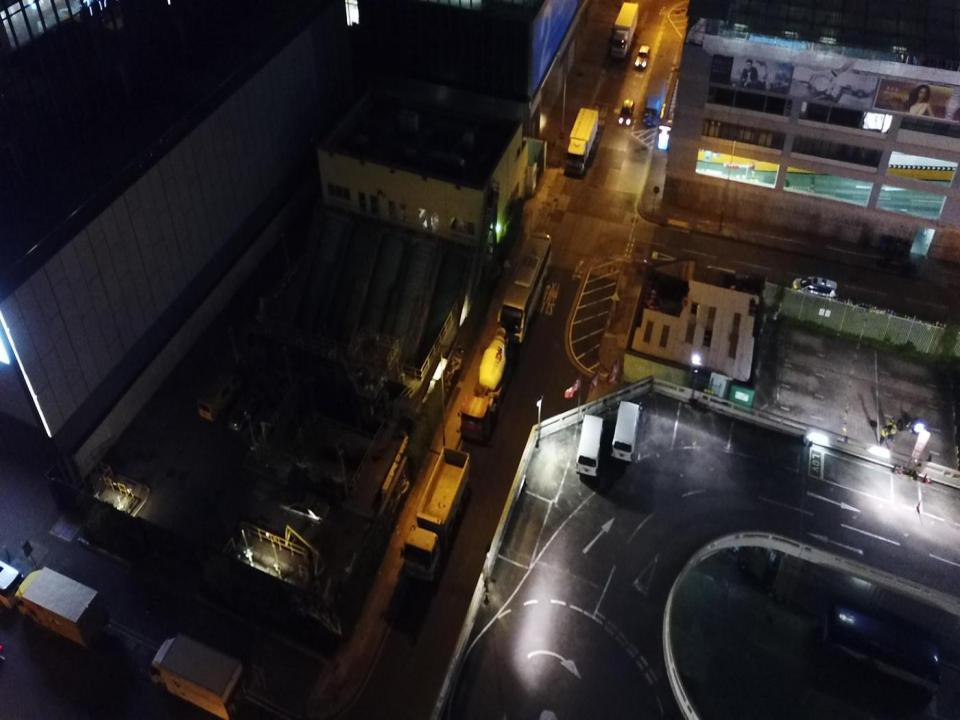bus: (820, 602, 941, 704), (497, 229, 550, 344)
car: (280, 490, 330, 524), (227, 390, 265, 430), (618, 98, 634, 126), (635, 44, 651, 68)
truck: (403, 446, 471, 581), (148, 635, 246, 715), (14, 564, 108, 647), (460, 326, 513, 444), (564, 107, 599, 175), (642, 78, 666, 128)
van: (197, 370, 243, 421), (574, 413, 604, 475), (612, 400, 640, 463), (792, 277, 837, 300)
